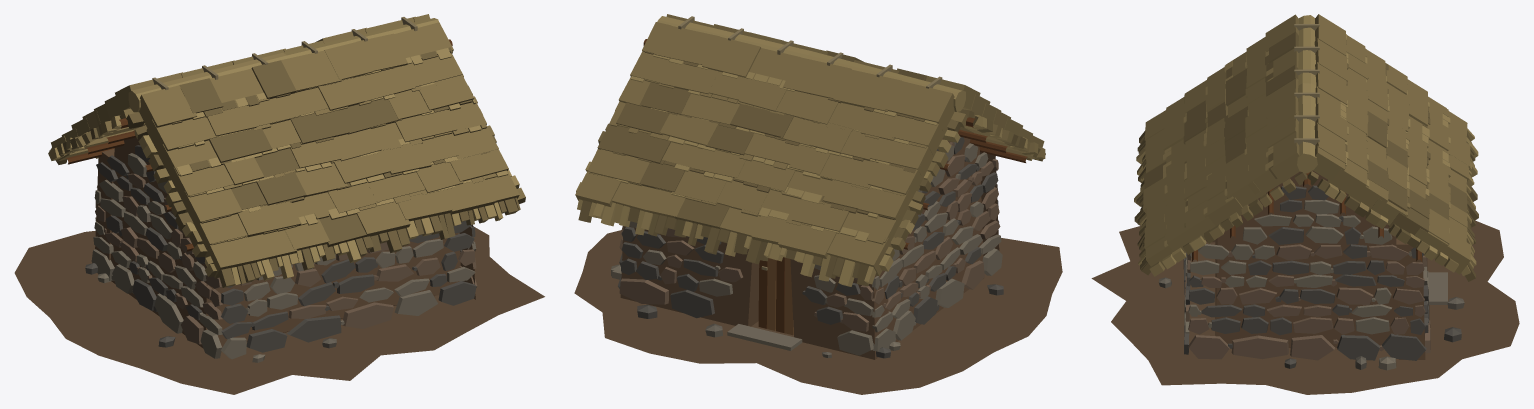
File: pch_house_e.glb
3 views of the same model, side by side, from view 1: azimuth 30°, elevation 25°; view 2: azimuth 150°, elevation 25°; view 3: azimuth 270°, elevation 25° (orthographic). The views are drawn at different scales.
Visible parts, largest first — view 1: pch_house_e; view 2: pch_house_e; view 3: pch_house_e.
Boxes of the visible parts, x1=… form: pch_house_e: x1=14, y1=14, x2=544, y2=394; pch_house_e: x1=574, y1=14, x2=1062, y2=394; pch_house_e: x1=1091, y1=14, x2=1519, y2=394.
Size of what is drawn, in the model's own units: 7.29 by 3.84 by 6.77.
